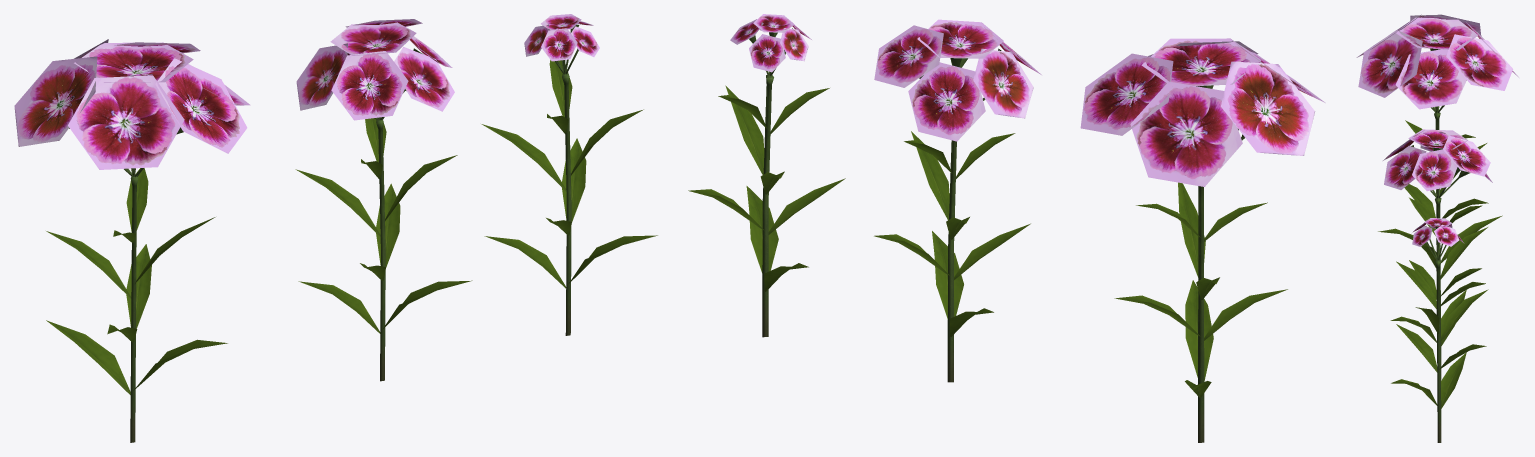
Rendered from sweet william_m.FBX.
3 views of the same model, side by side, from view 1: azimuth 30°, elevation 25°; view 2: azimuth 150°, elevation 25°; view 3: azimuth 270°, elevation 25° (orthographic). The views are drawn at different scales.
Parts seen in each view (by area): view 1: sweet william, sweet william003, sweet william004; view 2: sweet william, sweet william003, sweet william004; view 3: sweet william, sweet william003, sweet william004.
Boxes of the visible parts, left/top/right/bottom form: sweet william: left=14, top=39, right=250, bottom=442; sweet william003: left=295, top=19, right=472, bottom=381; sweet william004: left=481, top=14, right=657, bottom=335; sweet william: left=1080, top=38, right=1325, bottom=442; sweet william003: left=874, top=19, right=1041, bottom=382; sweet william004: left=688, top=14, right=845, bottom=337; sweet william: left=1356, top=14, right=1518, bottom=262; sweet william003: left=1383, top=129, right=1492, bottom=379; sweet william004: left=1391, top=218, right=1488, bottom=442.
Bounding box in the file's own units: 109 × 67.37 × 37.34.
